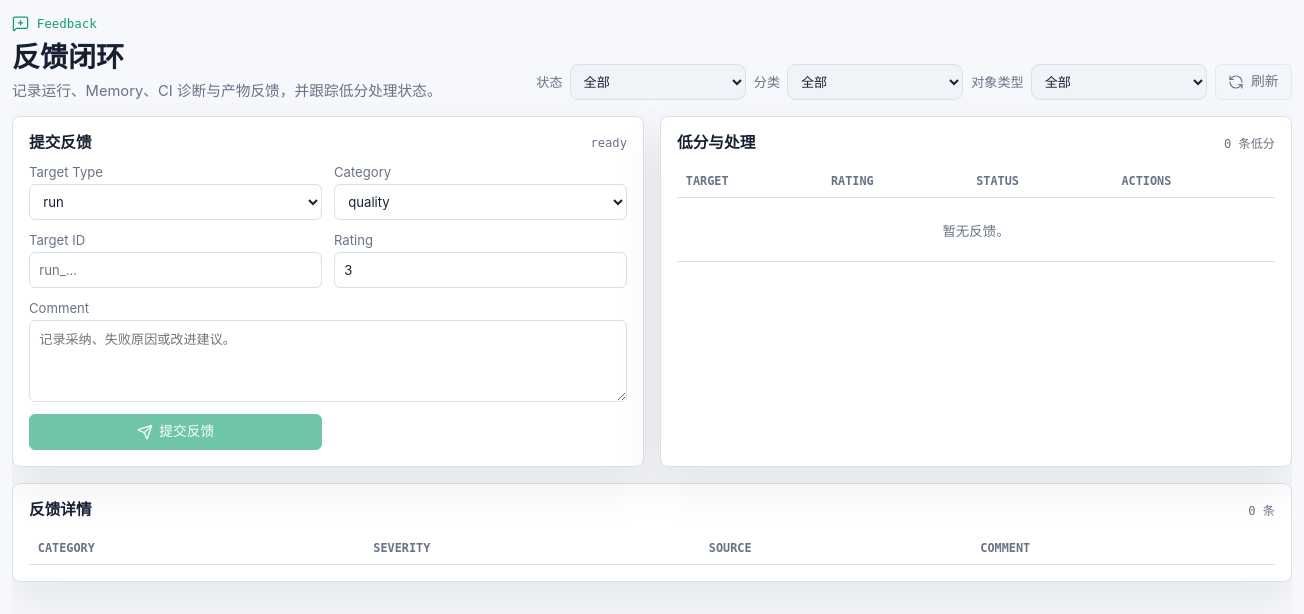
Test: FeedbackPage › disables submit when rating is outside 1–5
Type "run_x" into the field with test id "feedback-target-id" at {"x": 176, "y": 270}, box [29,252,322,288]
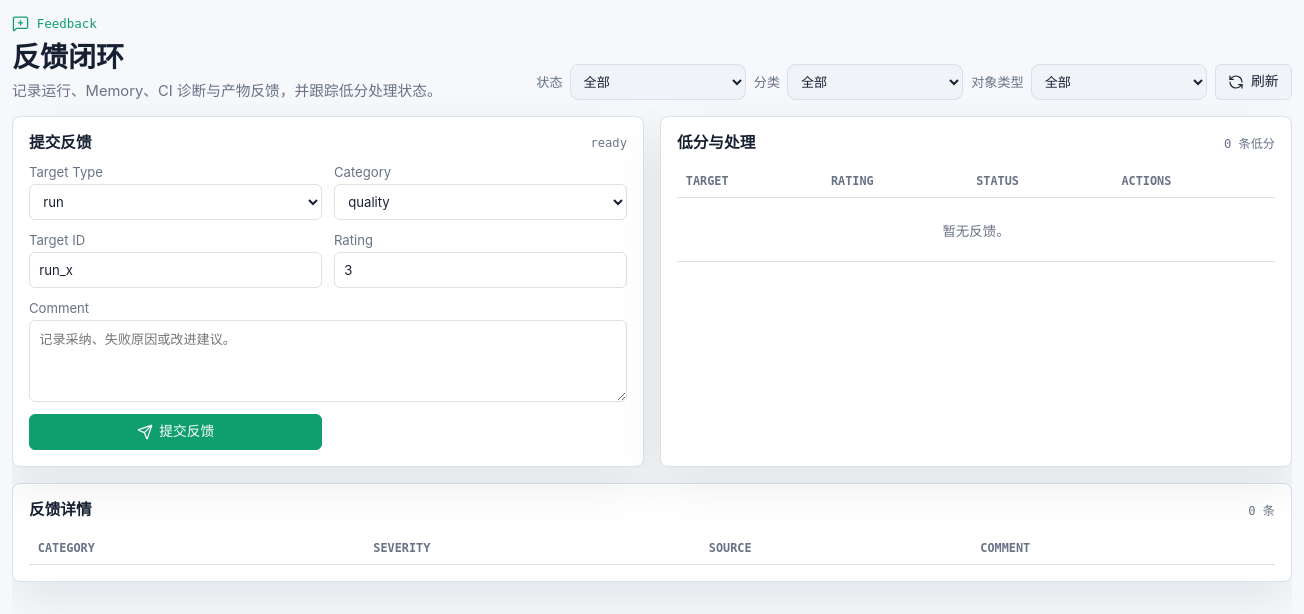
Replace the text in the number field with test id "feedback-rating" with "0" at {"x": 480, "y": 270}, box [334,252,627,288]
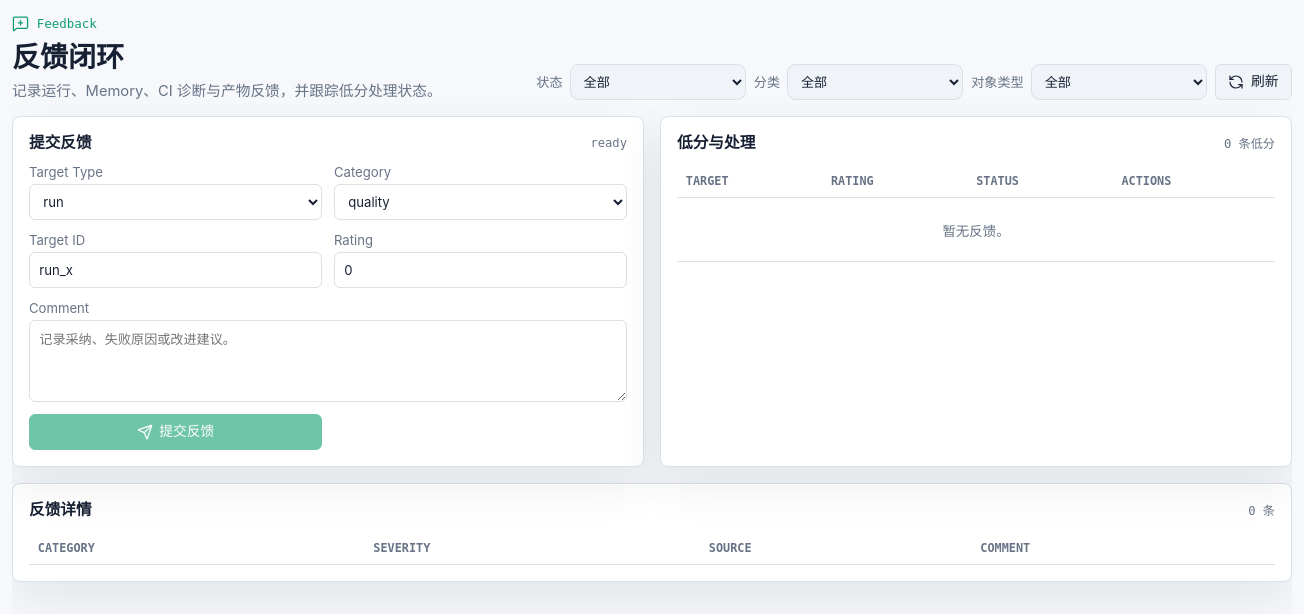
Result: the button with test id "feedback-submit" is disabled at [29,414,322,450]
Replace the text in the number field with test id "feedback-rating" with "6" at {"x": 480, "y": 270}, box [334,252,627,288]
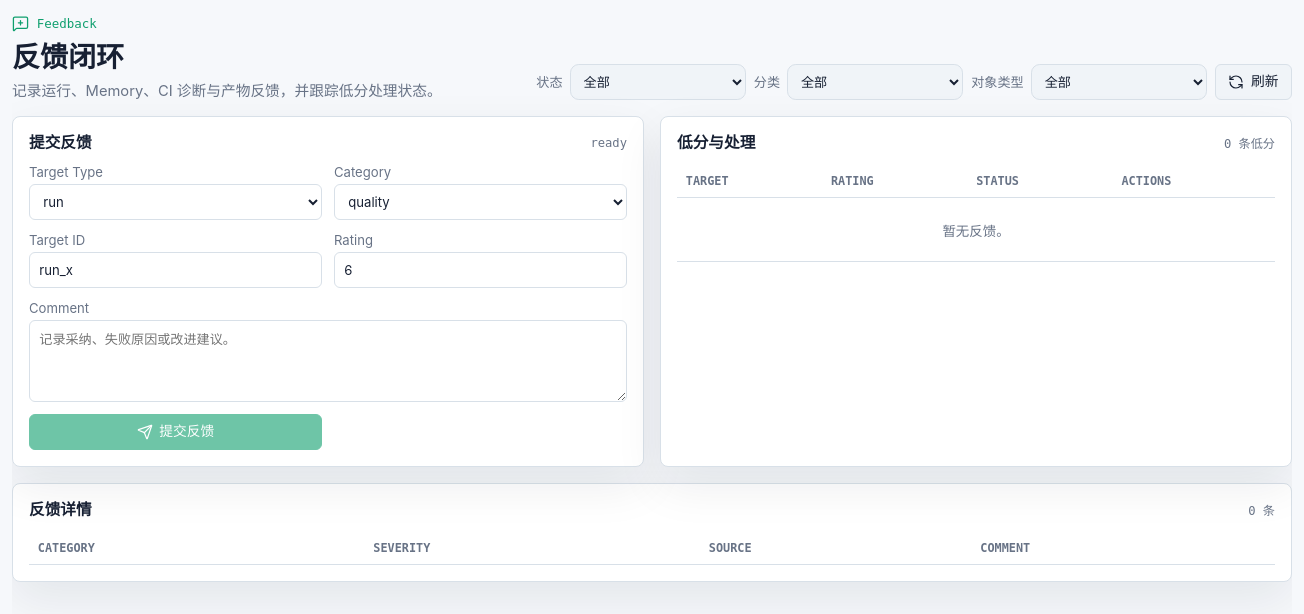
Result: the button with test id "feedback-submit" is disabled at [29,414,322,450]
Replace the text in the number field with test id "feedback-rating" with "4" at {"x": 480, "y": 270}, box [334,252,627,288]
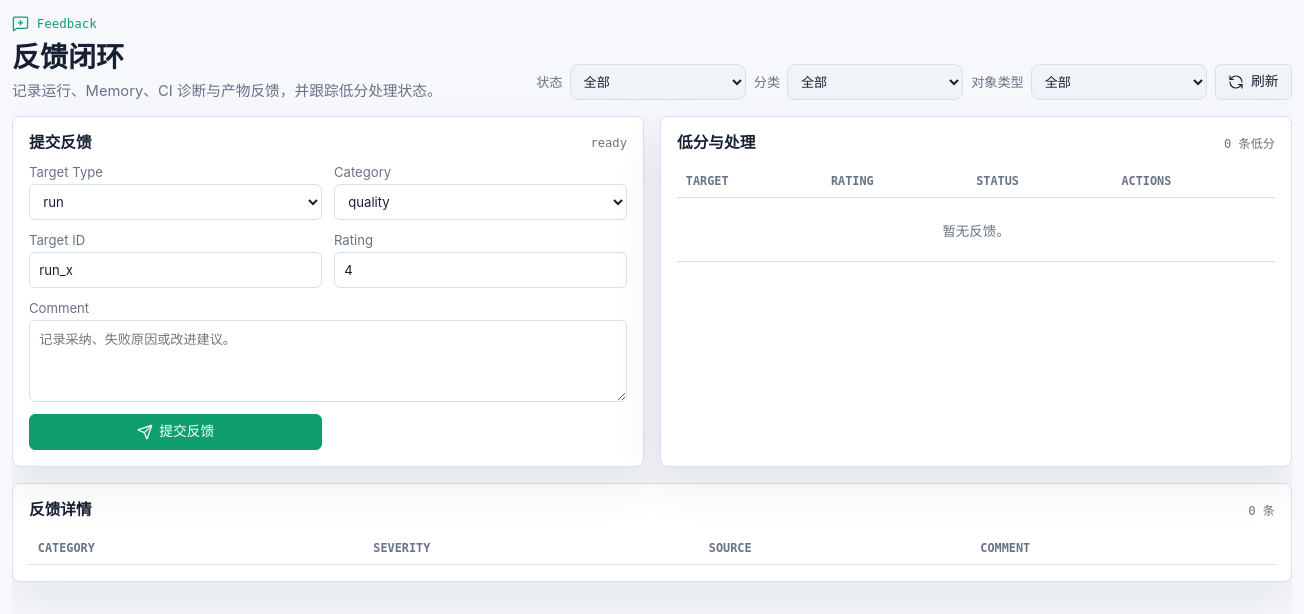
Result: the button with test id "feedback-submit" is enabled at [29,414,322,450]
